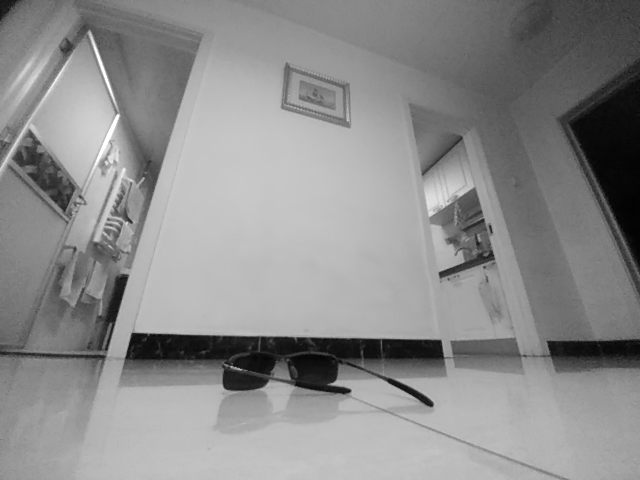others: (221, 348, 435, 413)
